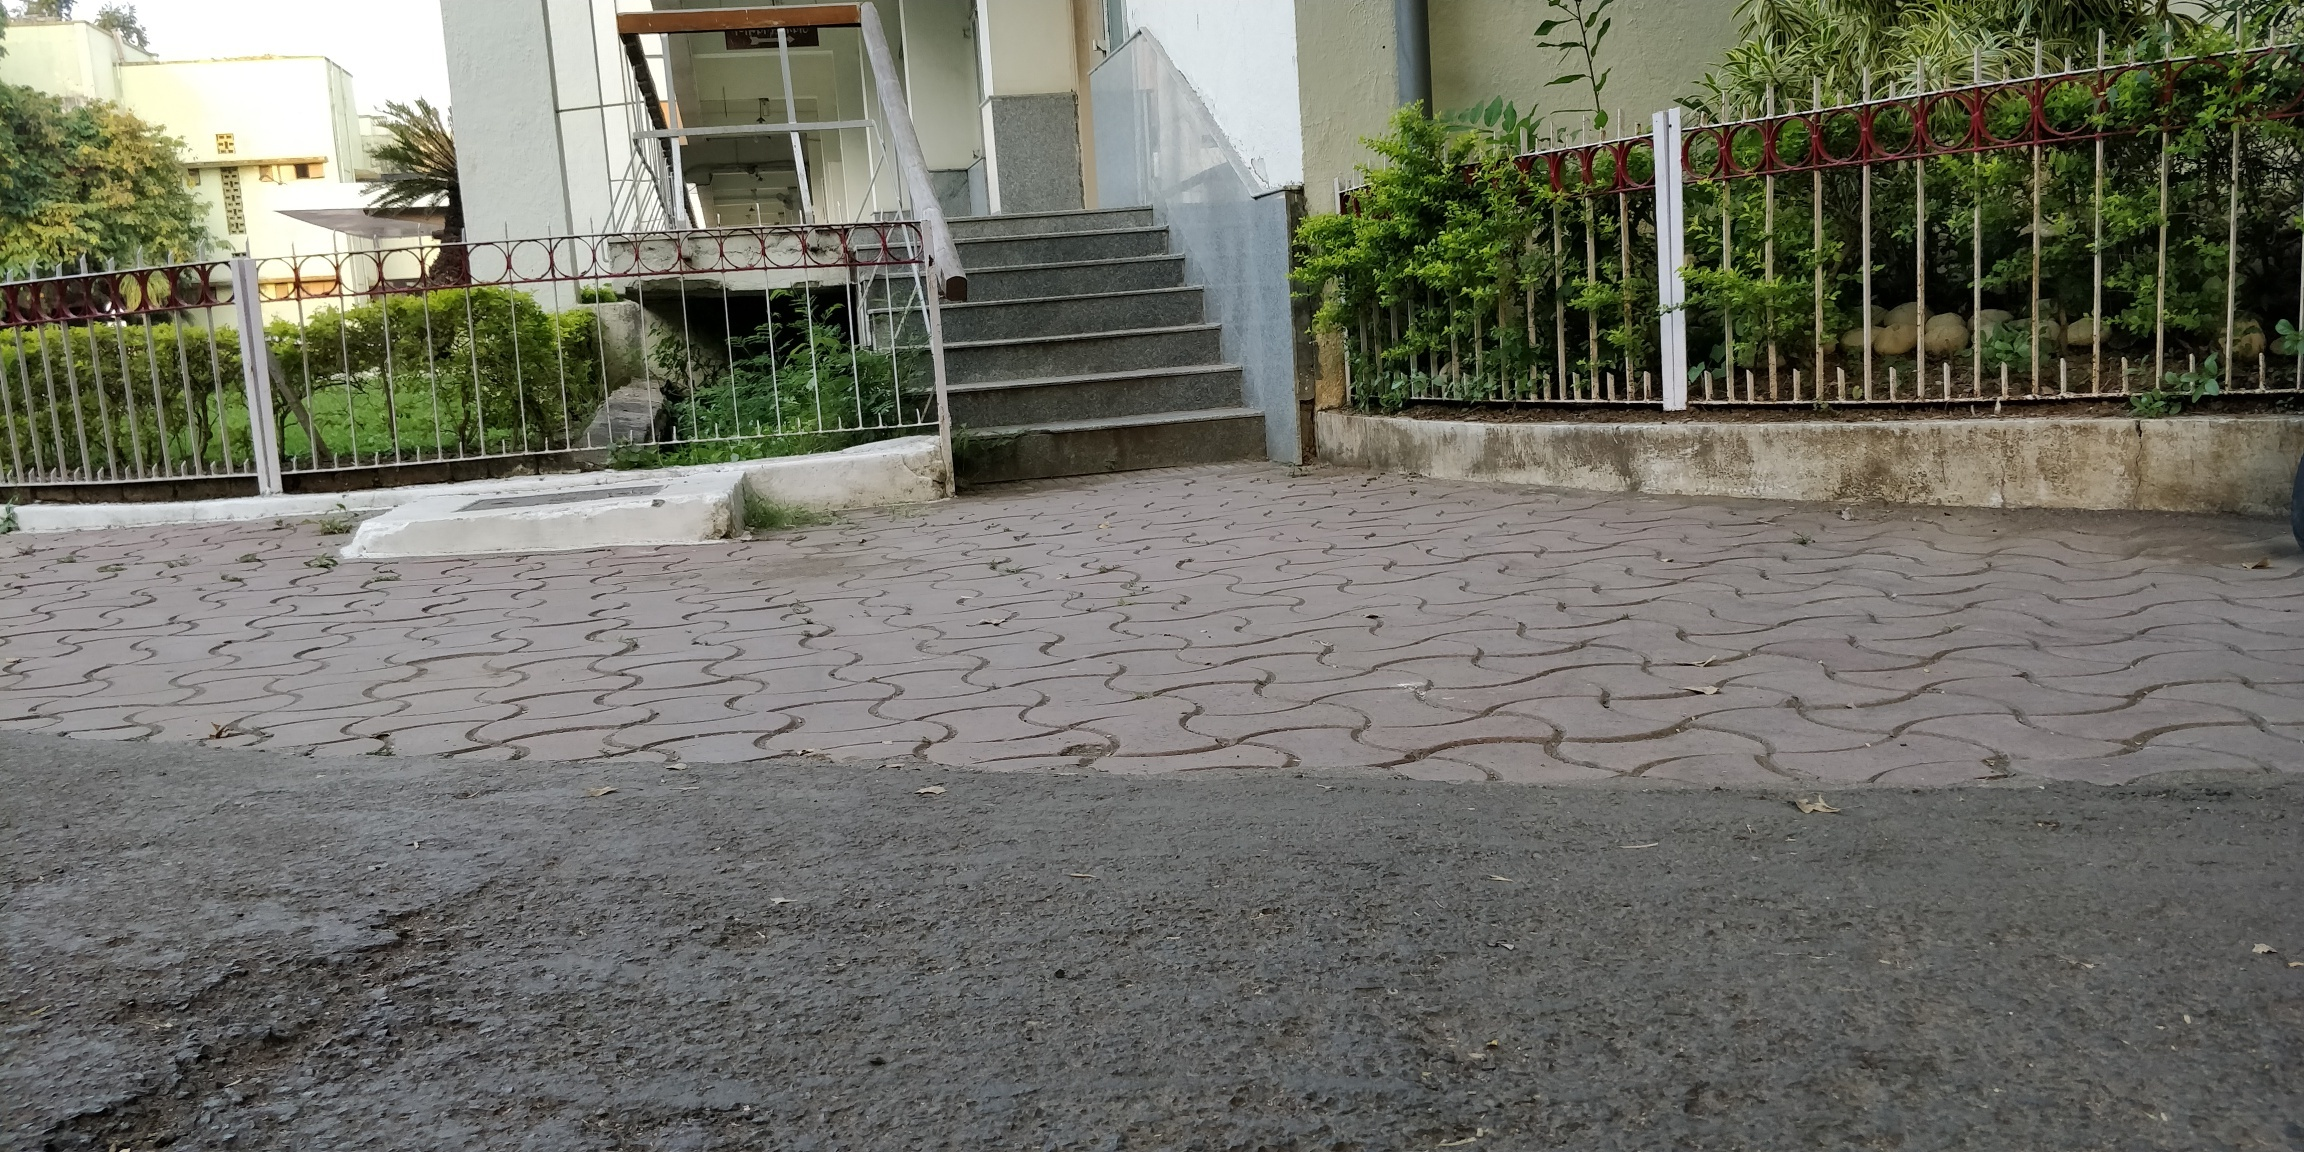stairs_up: (851, 209, 1267, 478)
